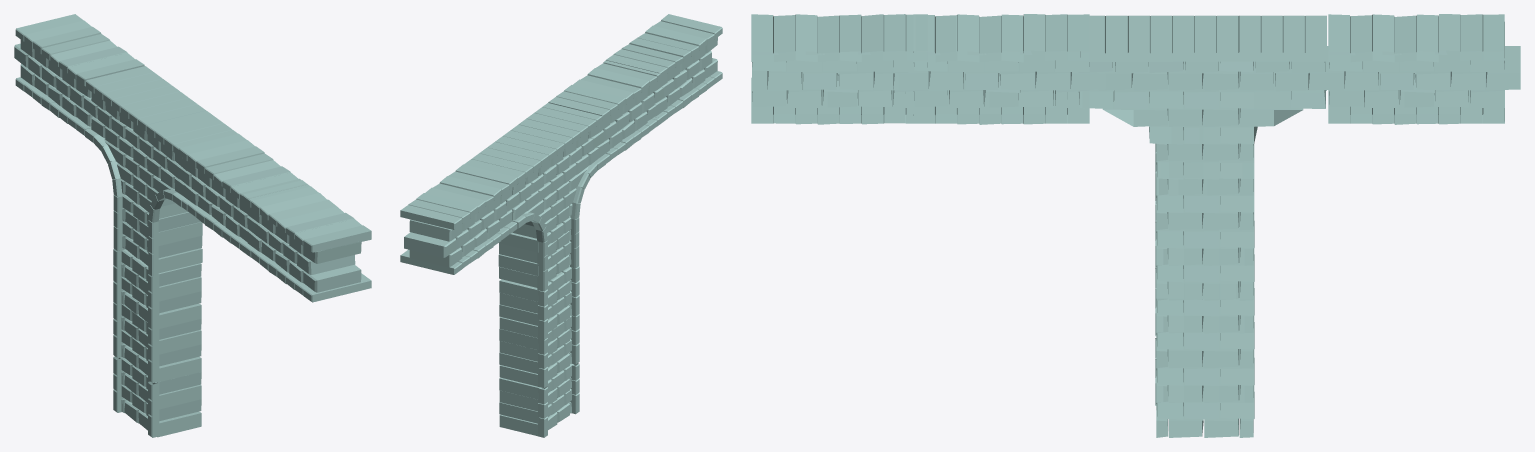
File: Escenario3.fbx
The picture shows the model from 3 angles, left to right: view 1: azimuth 30°, elevation 25°; view 2: azimuth 150°, elevation 25°; view 3: azimuth 270°, elevation 25°; orthographic projection. The views are drawn at different scales.
Visible parts, largest first — view 1: polySurface1908; view 2: polySurface1908; view 3: polySurface1908.
Part boxes in pixels (x1,y1,x2,y2): polySurface1908: (14, 14, 371, 437); polySurface1908: (400, 14, 722, 437); polySurface1908: (751, 14, 1520, 437).
Size of the model in its own units: 1.33 by 6.42 by 11.36.
